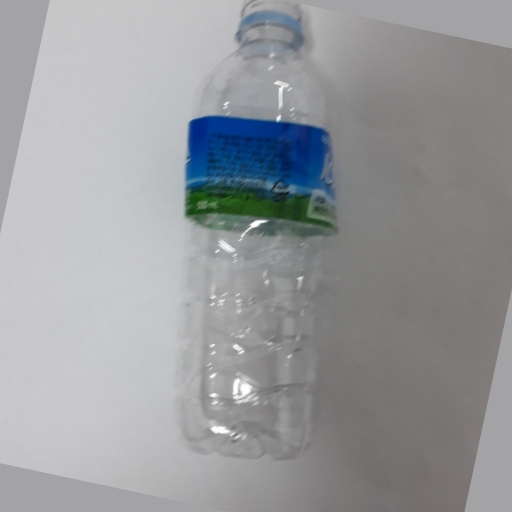Plastic_0: (179, 1, 346, 469)
